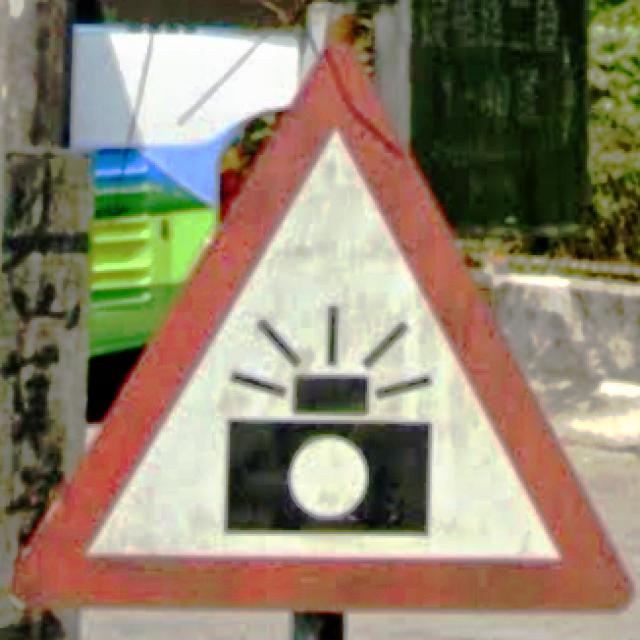speedcamera: (8, 16, 634, 616)
